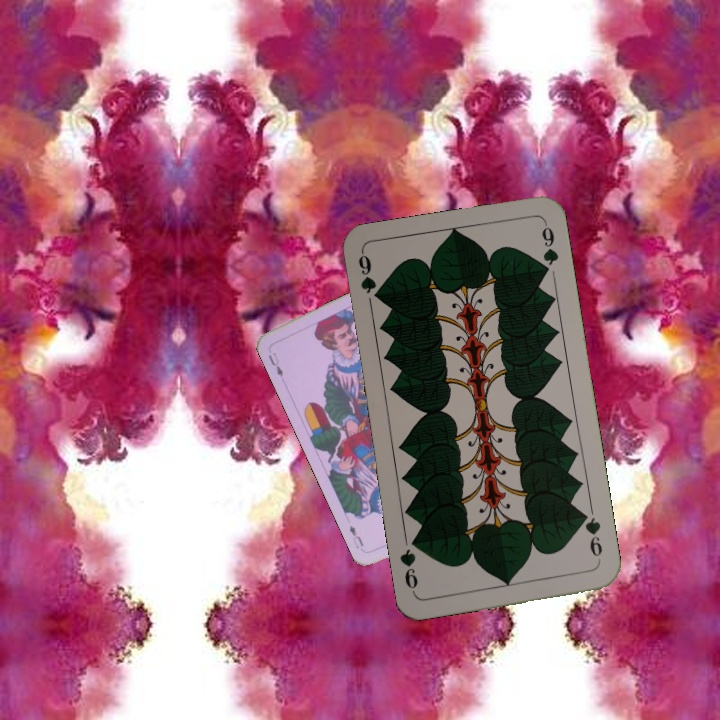EU: (264, 348, 286, 380)
G9: (354, 249, 382, 303), (577, 508, 605, 560)
